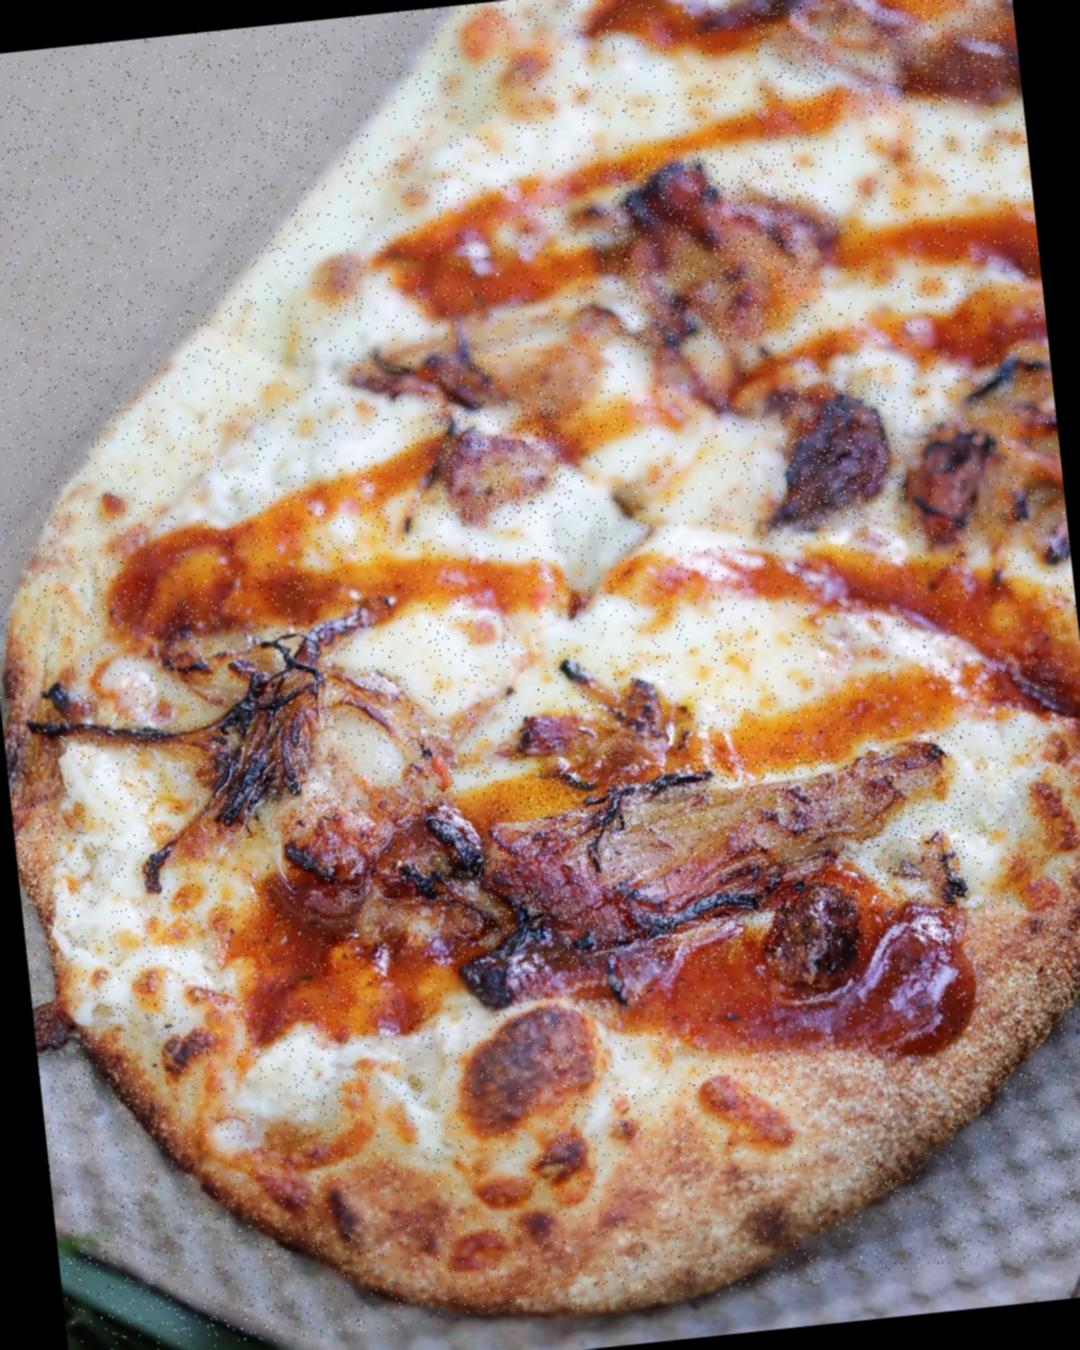Bacon: (484, 733, 974, 983), (225, 630, 506, 981), (603, 144, 812, 350), (749, 0, 1017, 125), (429, 389, 572, 532), (777, 375, 904, 531), (901, 417, 1001, 528)
Pizza: (0, 0, 1080, 1350)
